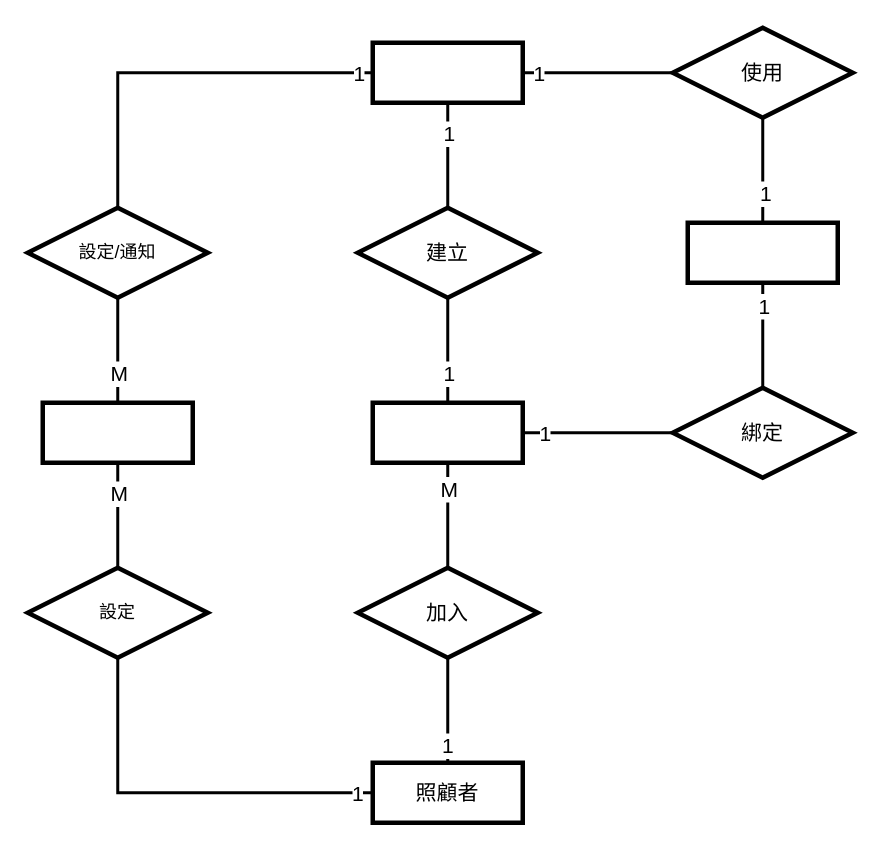
This 881x851 diagram has some shape labels left out. Here are the shapes that lost their labels. From the top down, the centre of each, then its label:
point 447,72: 長者
point 762,252: IoT設備
point 117,432: 行程通知
point 447,432: 群組
